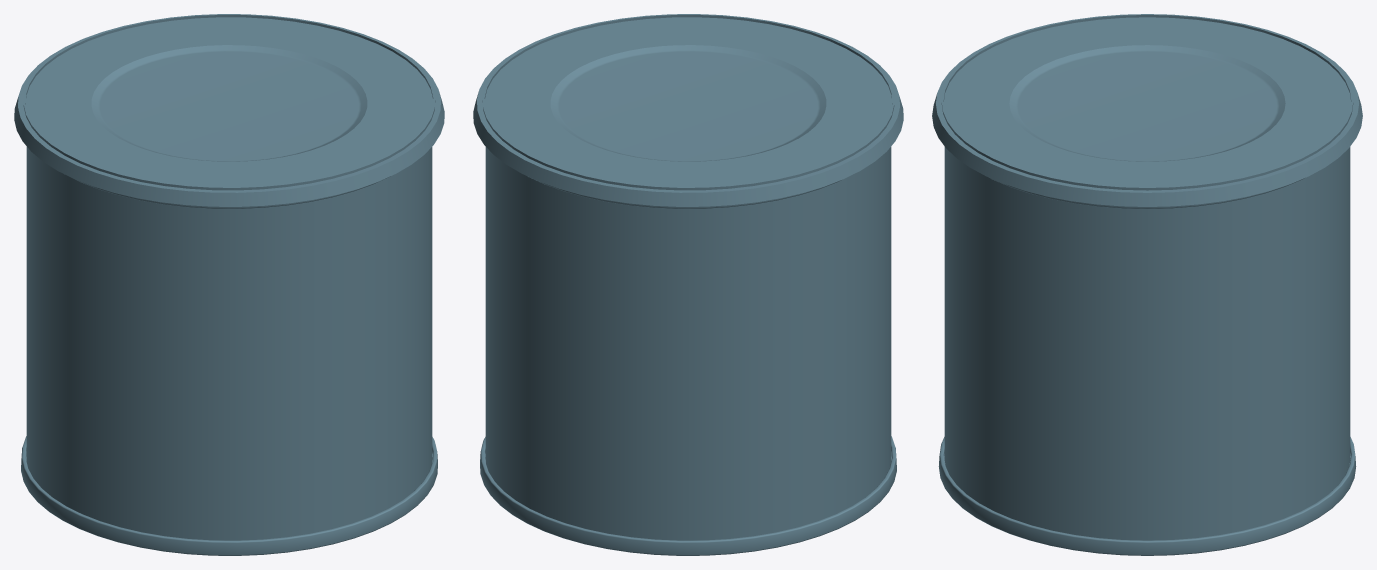
Rendered from can.FBX.
The picture shows the model from 3 angles, left to right: view 1: azimuth 30°, elevation 25°; view 2: azimuth 150°, elevation 25°; view 3: azimuth 270°, elevation 25°; orthographic projection.
Parts seen in each view (by area): view 1: Line01, Line03; view 2: Line01, Line03; view 3: Line01, Line03.
Part boxes in pixels (x1=…): Line01: x1=21, y1=146, x2=437, y2=555; Line03: x1=14, y1=14, x2=444, y2=206; Line01: x1=480, y1=146, x2=896, y2=555; Line03: x1=473, y1=14, x2=903, y2=206; Line01: x1=938, y1=147, x2=1356, y2=555; Line03: x1=932, y1=14, x2=1362, y2=206.
Size of the model in its own units: 227 by 213 by 227.
